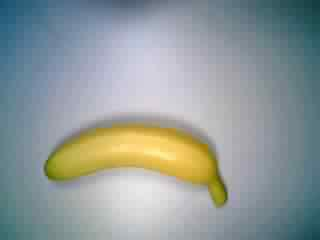banana: (41, 118, 235, 211)
